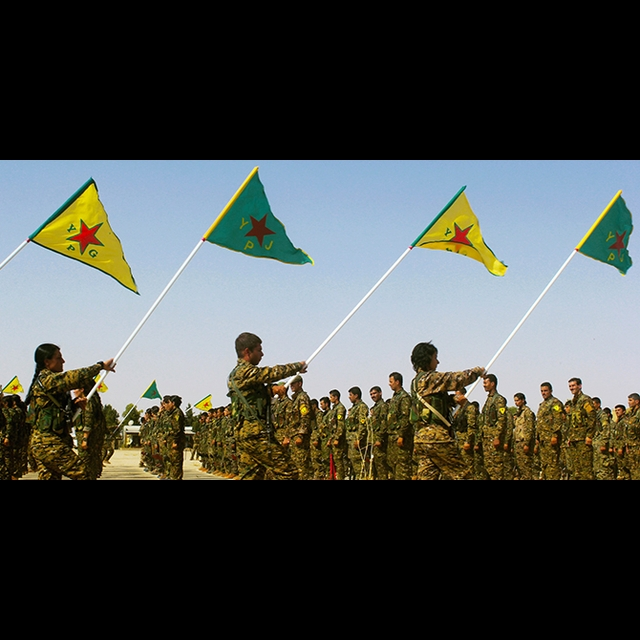YPG: (57, 210, 105, 262), (434, 219, 480, 257)
YPJ: (234, 211, 275, 254), (604, 223, 627, 265)
